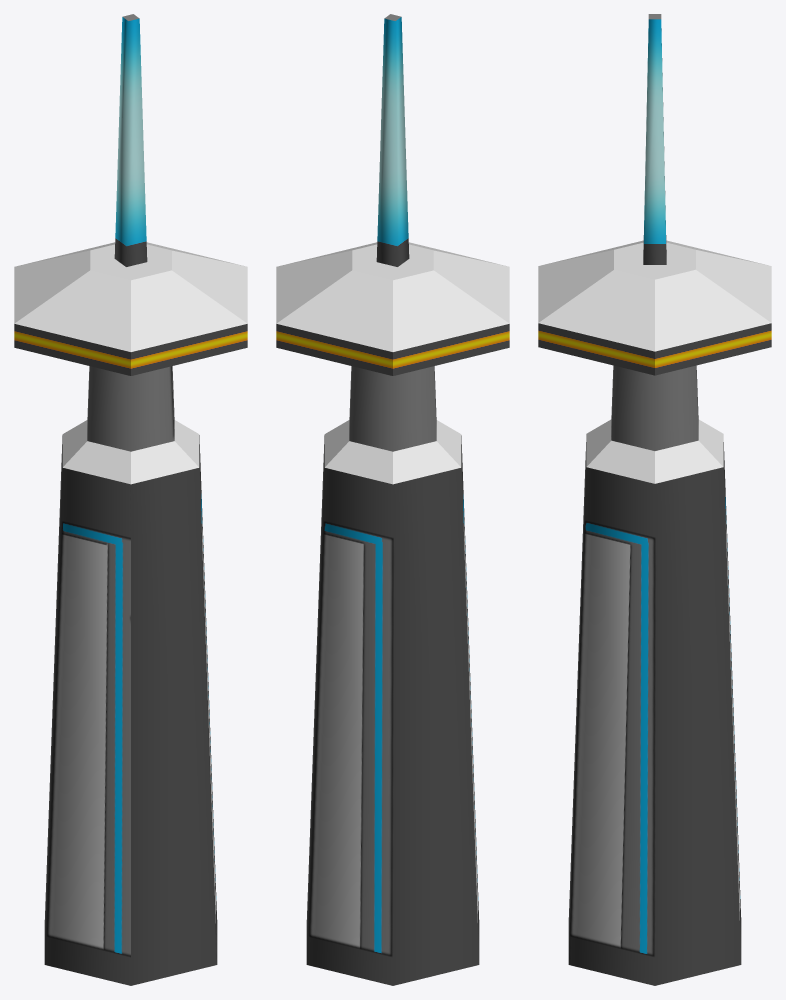
File: MoonTether.fbx
The picture shows the model from 3 angles, left to right: view 1: azimuth 30°, elevation 25°; view 2: azimuth 150°, elevation 25°; view 3: azimuth 270°, elevation 25°; orthographic projection.
Visible parts, largest first — view 1: MoonTether; view 2: MoonTether; view 3: MoonTether.
Boxes of the visible parts, box(x1,y1,x2,y2) form: MoonTether: box(14, 14, 247, 985); MoonTether: box(276, 14, 509, 985); MoonTether: box(538, 14, 771, 985).
Bounding box in the file's own units: 77.21 × 293 × 66.87.
1 material, 1 textured.
